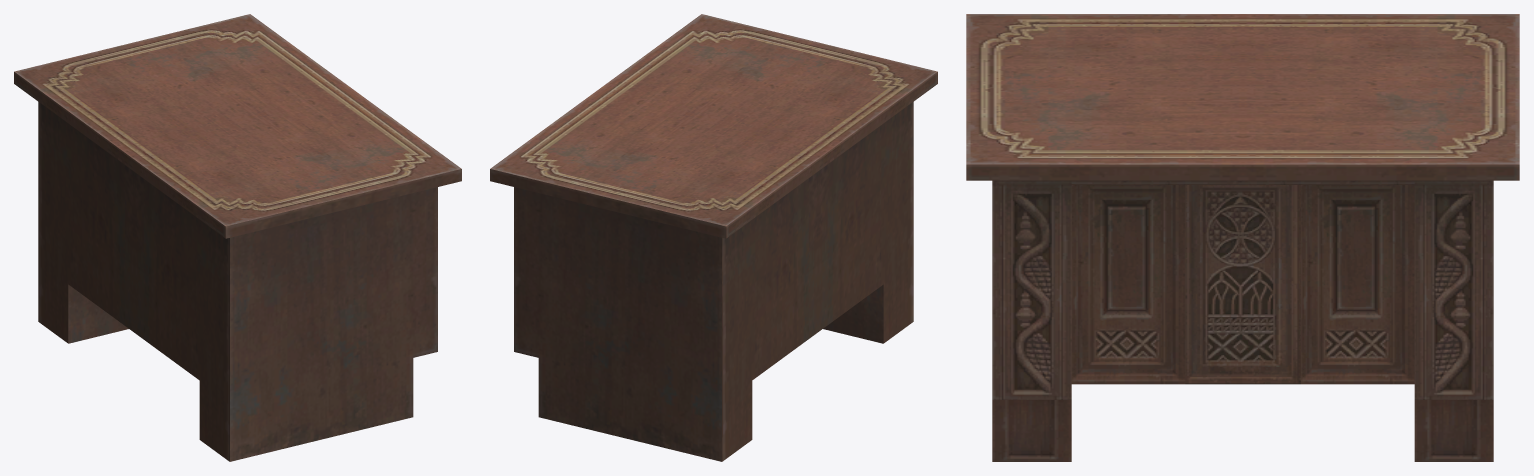
File: bg_lut_lucastle_libraryprop03_sm_artree.FBX
3 renders of one model, left to right at view 1: azimuth 30°, elevation 25°; view 2: azimuth 150°, elevation 25°; view 3: azimuth 270°, elevation 25°, orthographic. The views are drawn at different scales.
Visible parts, largest first — view 1: bg_lut_lucastle_libraryprop03_sm_artree; view 2: bg_lut_lucastle_libraryprop03_sm_artree; view 3: bg_lut_lucastle_libraryprop03_sm_artree.
Boxes of the visible parts, x1,y1,x2,y2 form: bg_lut_lucastle_libraryprop03_sm_artree: (14,14,461,461); bg_lut_lucastle_libraryprop03_sm_artree: (490,14,937,461); bg_lut_lucastle_libraryprop03_sm_artree: (966,14,1519,461).
Size of the model in its own units: 131 by 130 by 203.
